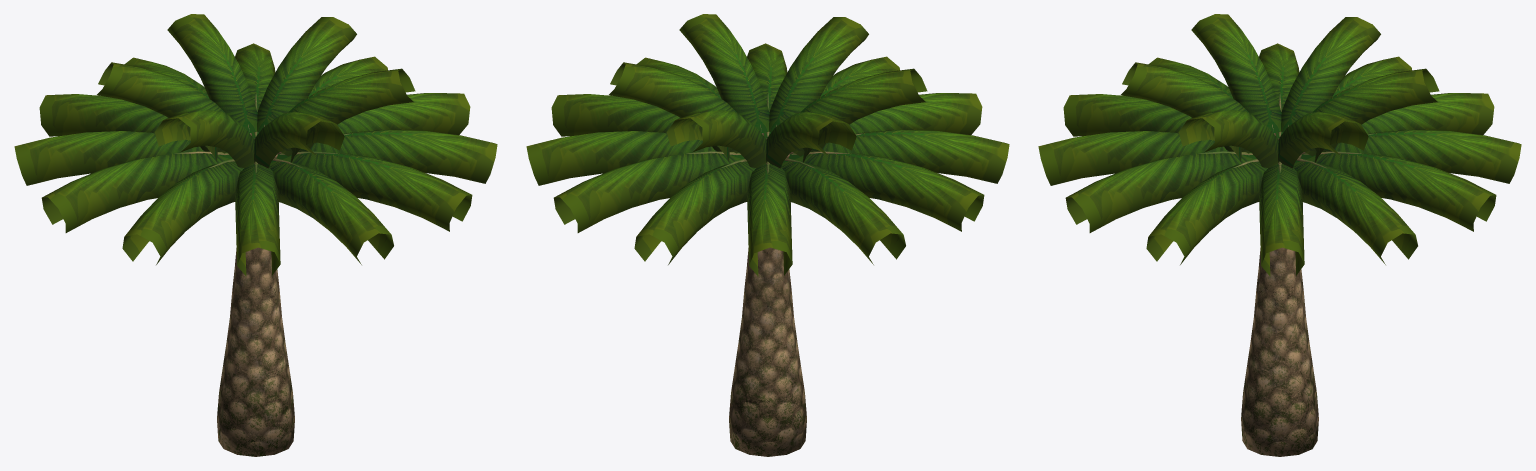
File: sb_obj_nature010_Jungles04b.fbx
3 renders of one model, left to right at view 1: azimuth 30°, elevation 25°; view 2: azimuth 150°, elevation 25°; view 3: azimuth 270°, elevation 25°, orthographic.
Parts seen in each view (by area): view 1: 04b_leaf, sb_obj_nature010_Jungles04b; view 2: 04b_leaf, sb_obj_nature010_Jungles04b; view 3: 04b_leaf, sb_obj_nature010_Jungles04b.
Part boxes in pixels (box(x1,y1,x2,y2)): 04b_leaf: box(14, 14, 497, 276); sb_obj_nature010_Jungles04b: box(174, 94, 350, 456); 04b_leaf: box(526, 14, 1009, 276); sb_obj_nature010_Jungles04b: box(686, 93, 862, 456); 04b_leaf: box(1038, 14, 1521, 276); sb_obj_nature010_Jungles04b: box(1198, 94, 1374, 456).
Bounding box in the file's own units: 4.39 × 3.75 × 4.39.
Materials: 2 (2 with a texture image).
